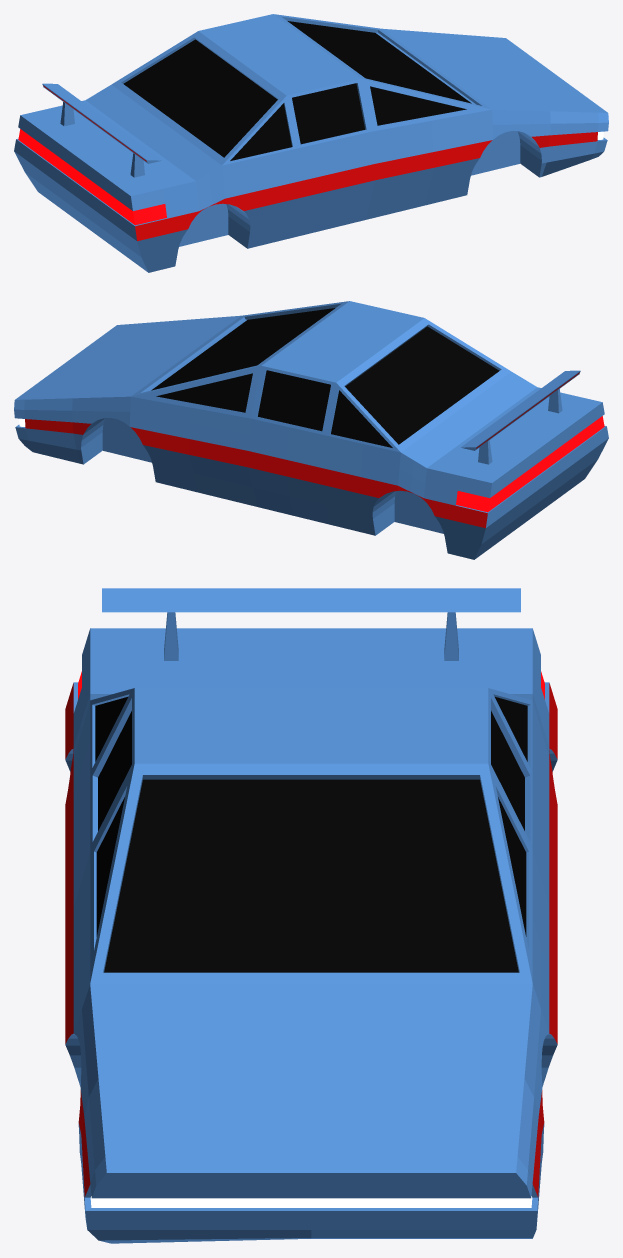
File: cyberCarBody.glb
3 renders of one model, top to bottom at view 1: azimuth 30°, elevation 25°; view 2: azimuth 150°, elevation 25°; view 3: azimuth 270°, elevation 25°, orthographic. The views are drawn at different scales.
Parts seen in each view (by area): view 1: Cube; view 2: Cube; view 3: Cube.
Part boxes in pixels (x1,y1,x2,y2): Cube: [14, 14, 608, 272]; Cube: [14, 301, 608, 559]; Cube: [65, 588, 557, 1243].
Size of the model in its own units: 7.75 by 2.04 by 3.43.
